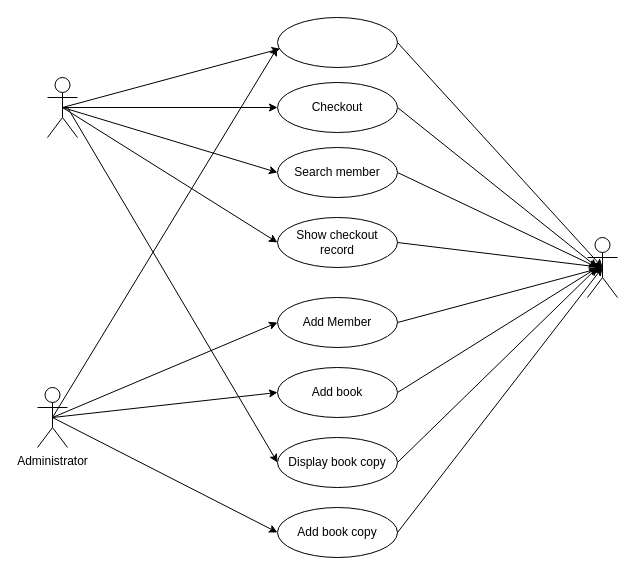
Some shapes in this 640 by 575 pixel diagram are drawn without their labels. The shapes that lost their labels are listed below. From the top down, each one's box as (x1, y1, x2, y2) in pixels, then its label:
(276, 16, 398, 68): Login
(46, 76, 78, 138): Librarian
(586, 236, 618, 298): System
